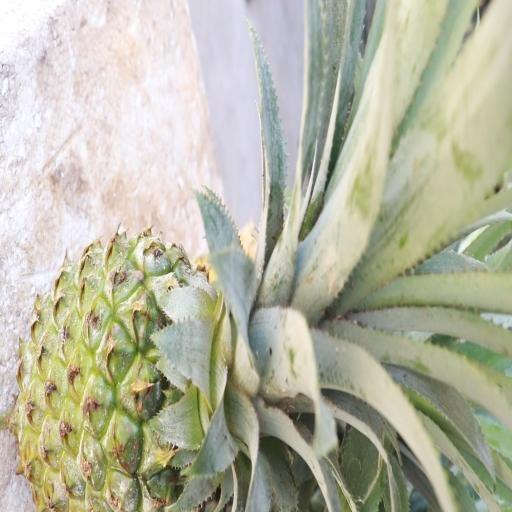------------------------------: (20, 246, 302, 511)
